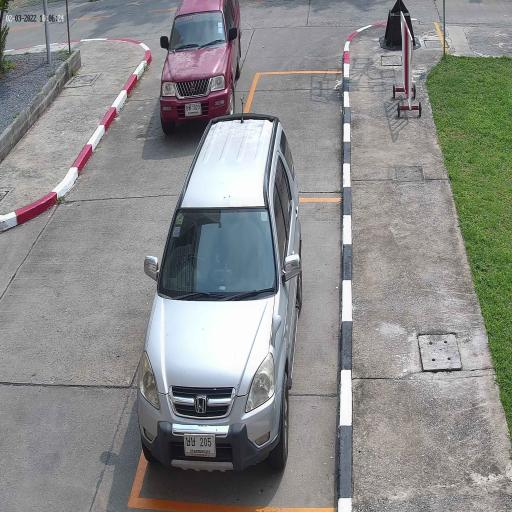car: (136, 112, 305, 475), (158, 0, 244, 136)
